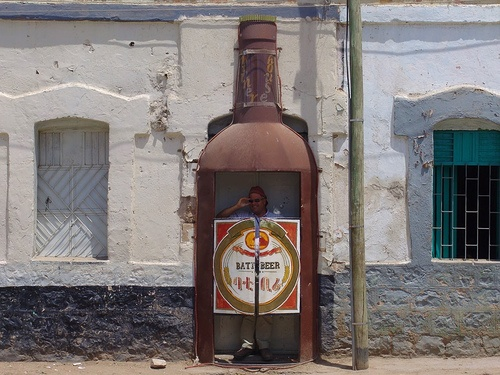head: (246, 190, 270, 218)
person: (212, 185, 294, 360)
